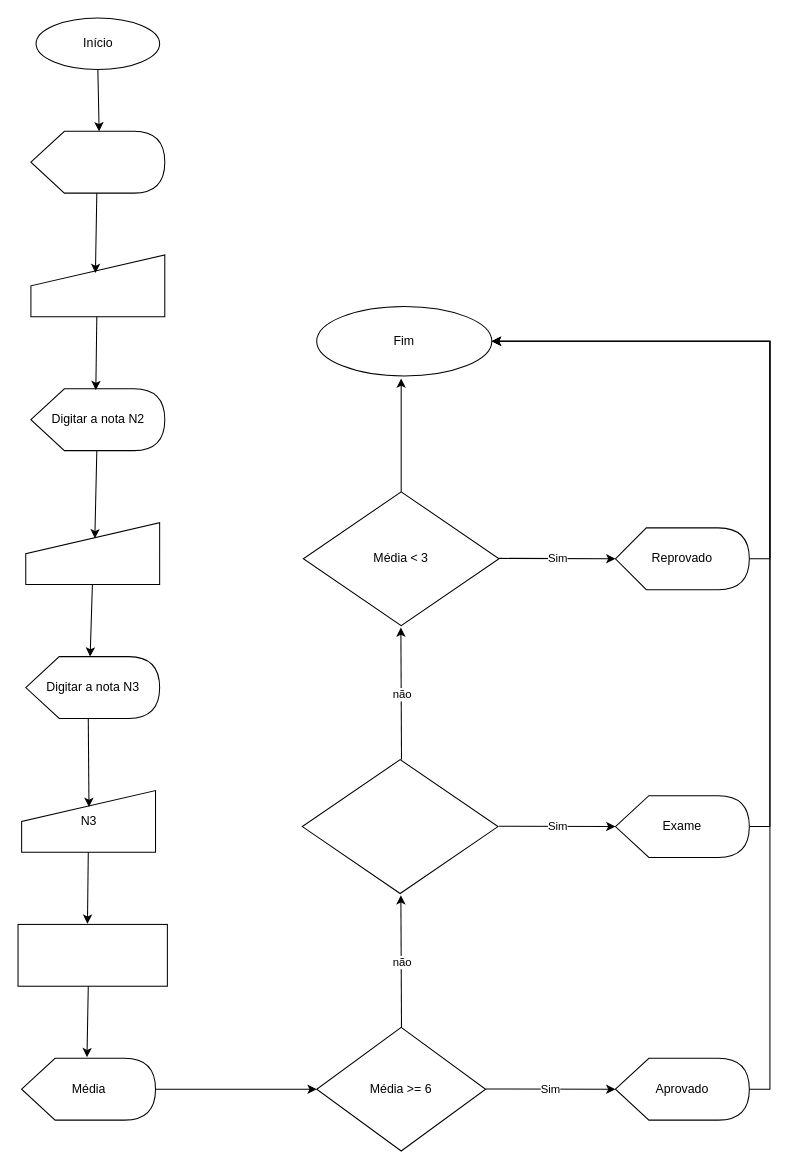
Image size: 796x1169. Some labels were removed from this diagram. The shapes that lost their labels are listed below. From the top down, each one's centre as x and y in pixels, then its label:
the point at 97,161: Digitar a nota N1
the point at 97,285: N1
the point at 92,553: N2
the point at 399,826: Média >= 3 e Média < 6
the point at 92,954: Média = (N1+N2+N3) / 3
